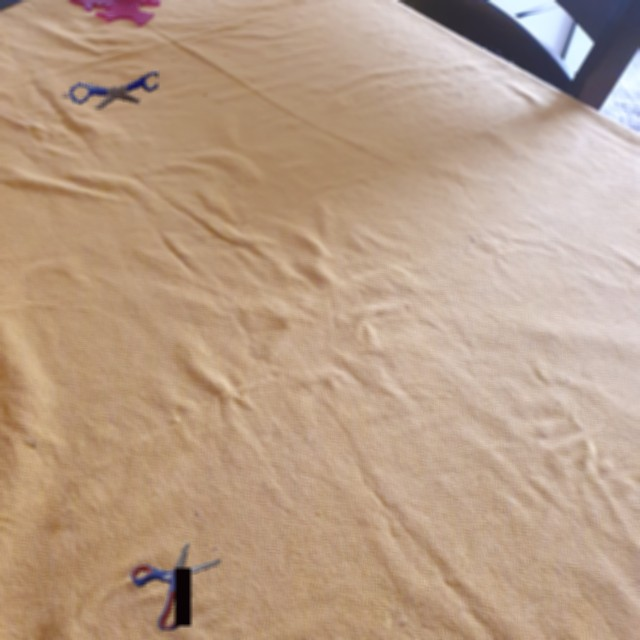scissors: (130, 541, 221, 630), (69, 71, 158, 109)
